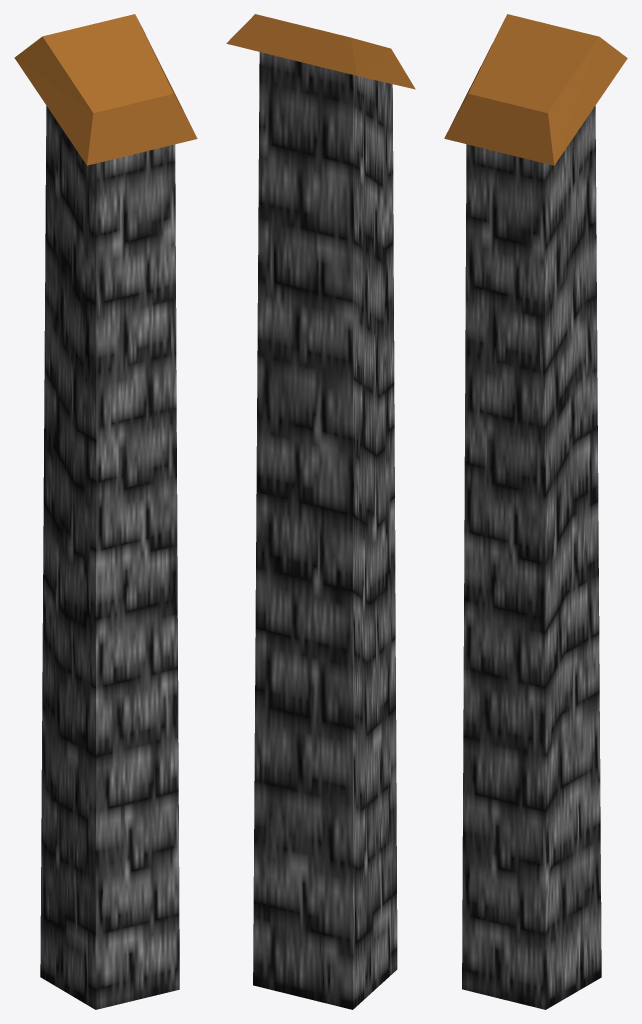
File: Stütze_GraueZiegel_911.glb
3 renders of one model, left to right at view 1: azimuth 30°, elevation 25°; view 2: azimuth 150°, elevation 25°; view 3: azimuth 330°, elevation 25°, orthographic. The views are drawn at different scales.
Parts seen in each view (by area): view 1: pCylinderShape279, pCylinderShape287; view 2: pCylinderShape279, pCylinderShape287; view 3: pCylinderShape279, pCylinderShape287.
Boxes of the visible parts, box(x1,y1,x2,y2) form: pCylinderShape279: box(40, 106, 179, 1009); pCylinderShape287: box(14, 14, 197, 165); pCylinderShape279: box(253, 52, 397, 1009); pCylinderShape287: box(226, 14, 415, 89); pCylinderShape279: box(462, 106, 601, 1009); pCylinderShape287: box(444, 14, 627, 165).
Bounding box in the file's own units: 0.0405 × 0.2862 × 0.0358.
Materials: 2 (1 with a texture image).
